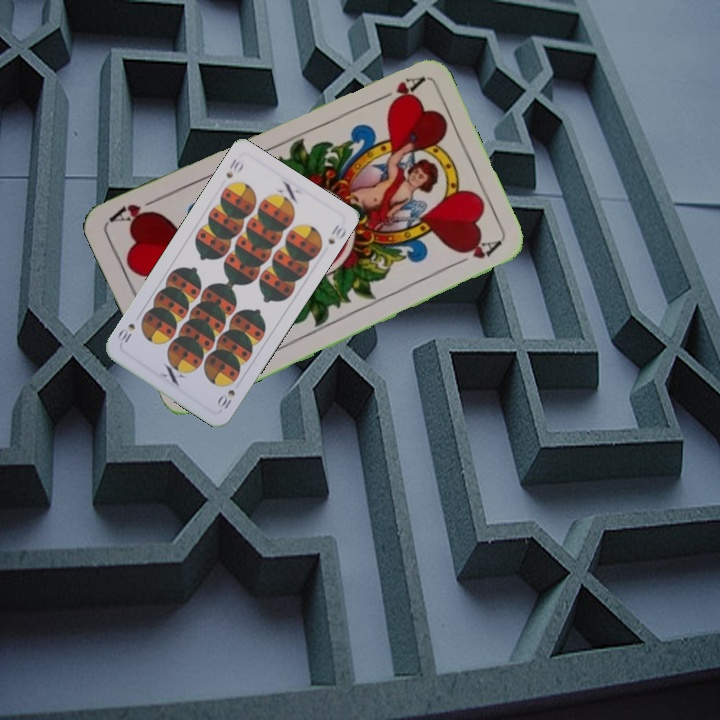HA: (370, 72, 426, 108)
S10: (213, 385, 238, 412), (222, 155, 246, 181)
